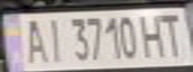0: (118, 12, 142, 60)
1: (103, 13, 124, 60)
3: (66, 14, 90, 62)
7: (84, 14, 106, 61)
A: (15, 16, 51, 65)
H: (136, 11, 169, 60)
I: (39, 14, 69, 63)
T: (154, 10, 190, 58)
